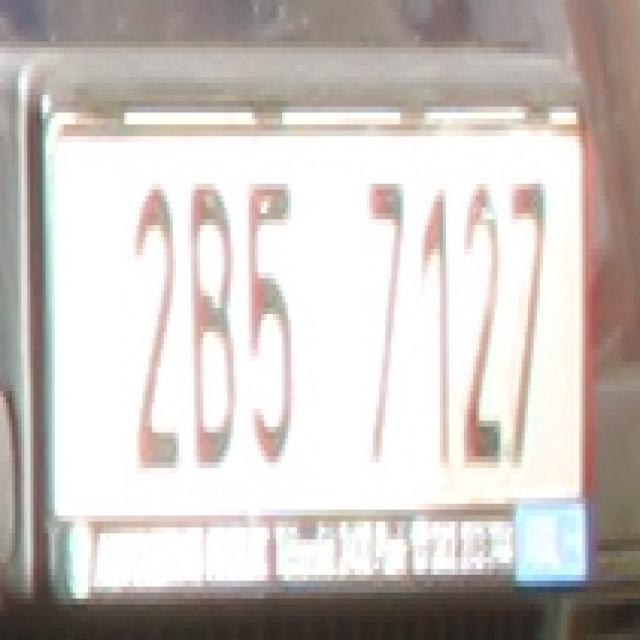1: (422, 190, 458, 474)
2: (130, 184, 182, 480), (461, 178, 504, 462)
5: (243, 172, 300, 468)
7: (358, 166, 409, 468), (510, 178, 546, 480)
B: (188, 172, 237, 468)
